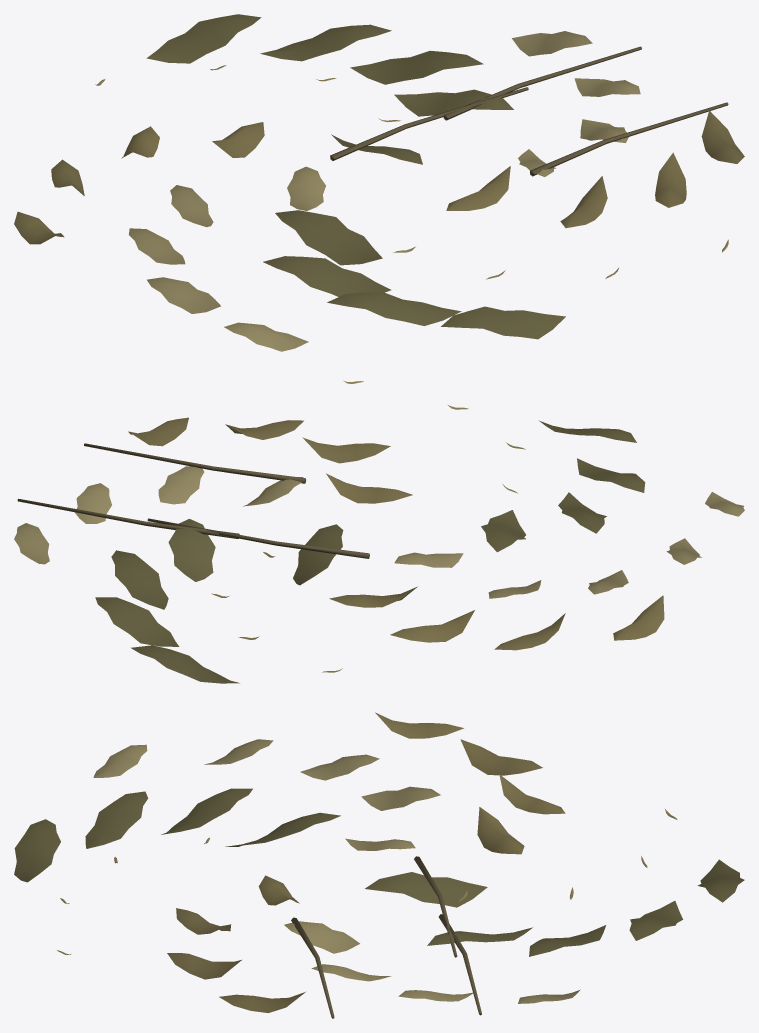
Rendered from Litiere_2.fbx.
3 renders of one model, top to bottom at view 1: azimuth 30°, elevation 25°; view 2: azimuth 150°, elevation 25°; view 3: azimuth 270°, elevation 25°, orthographic. The views are drawn at different scales.
Visible parts, largest first — view 1: Litiere_2; view 2: Litiere_2; view 3: Litiere_2.
Boxes of the visible parts, bbox=[...] form: Litiere_2: bbox=[14, 14, 744, 351]; Litiere_2: bbox=[14, 380, 744, 683]; Litiere_2: bbox=[14, 712, 744, 1018].
Bounding box in the file's own units: 45.44 × 2.4 × 46.85.
